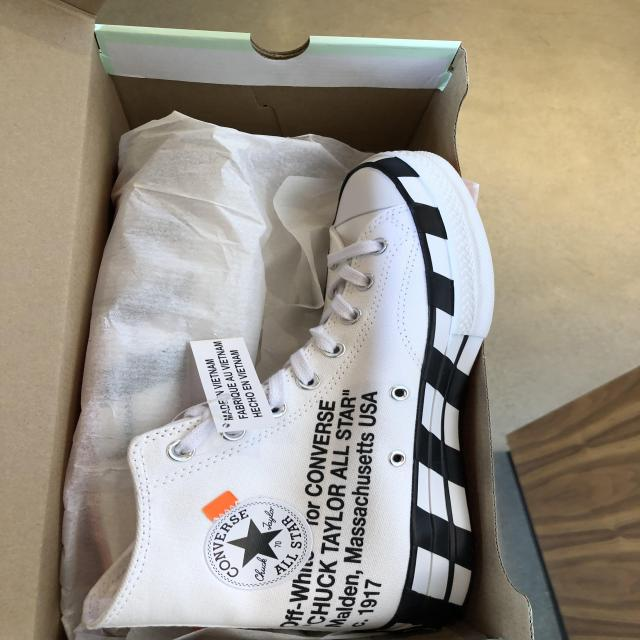shoe: (81, 143, 495, 636)
